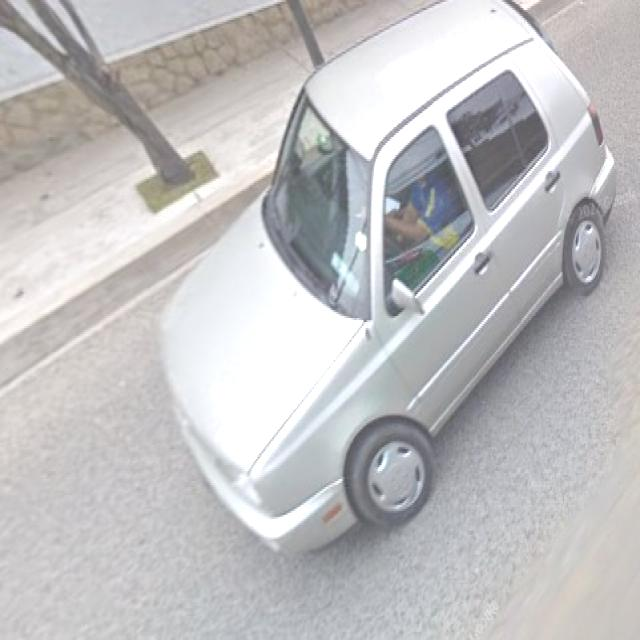car: (159, 13, 619, 581)
